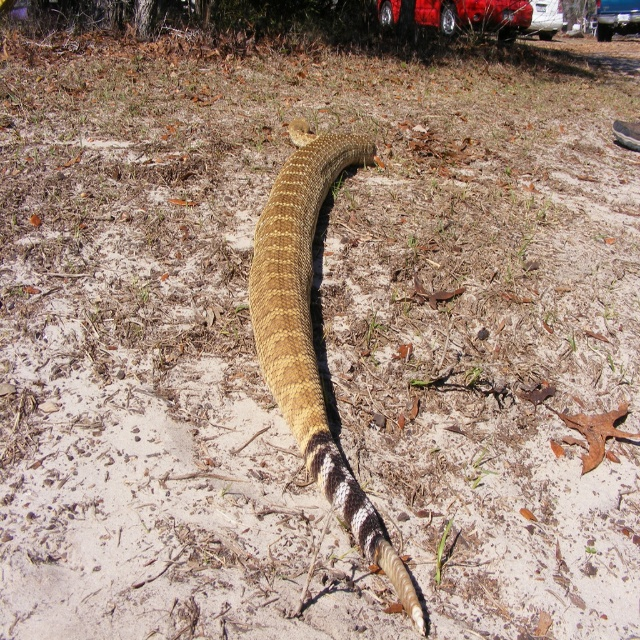Snake: (244, 115, 427, 639)
